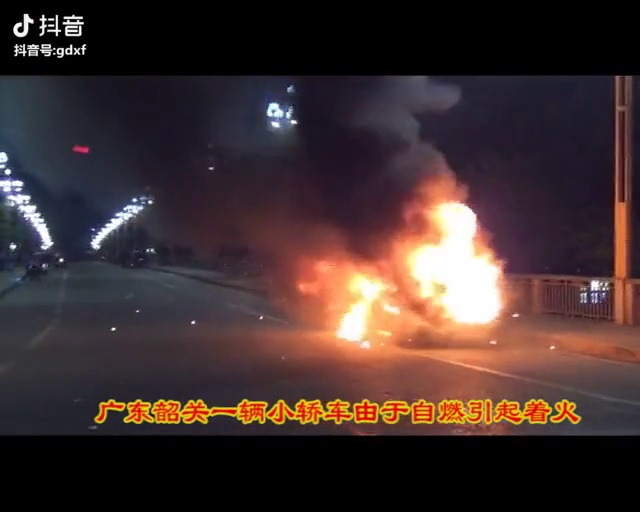fire: (336, 200, 500, 328)
yanwu: (167, 79, 426, 273)
